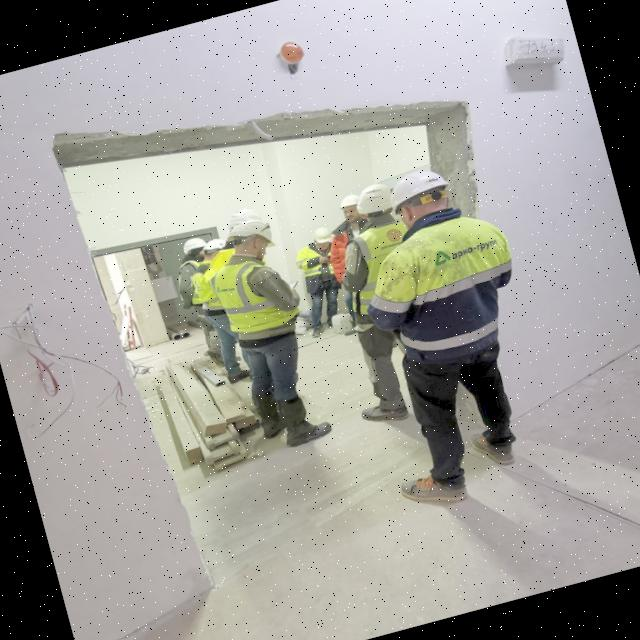Helmet: (384, 162, 462, 233), (224, 214, 281, 267), (354, 181, 399, 225), (336, 194, 366, 226), (225, 205, 264, 229), (200, 237, 231, 262), (311, 226, 336, 252), (183, 236, 210, 258)
